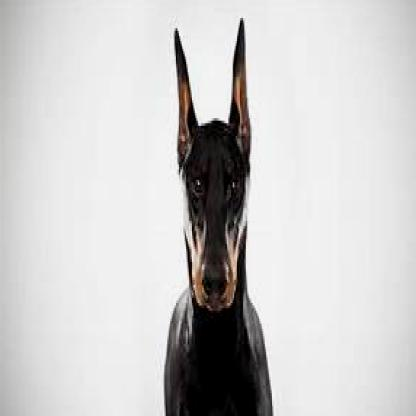dog: (160, 15, 273, 414)
